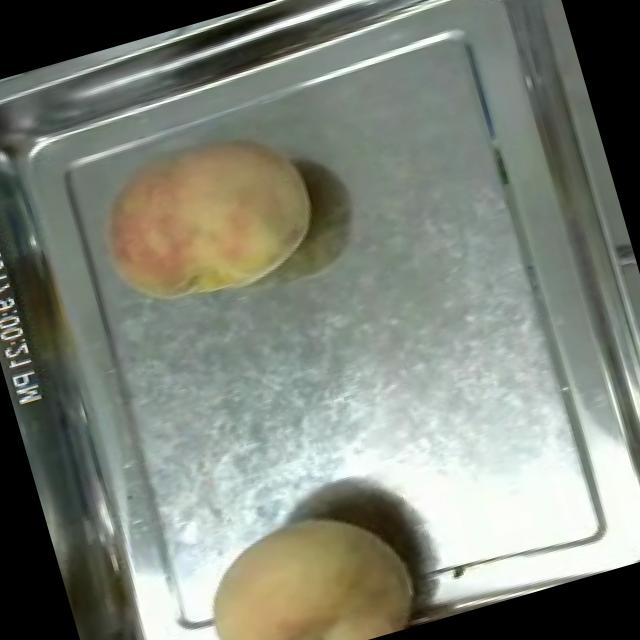Fruit: (72, 104, 339, 332), (176, 484, 432, 640)
